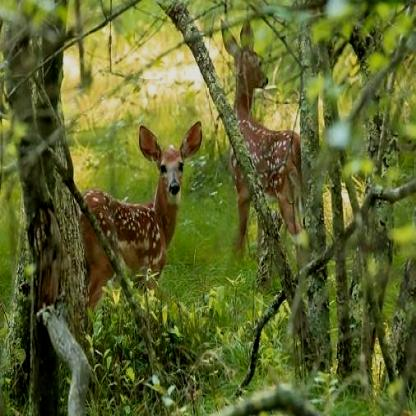Deer: (75, 117, 204, 360), (217, 16, 308, 291)
